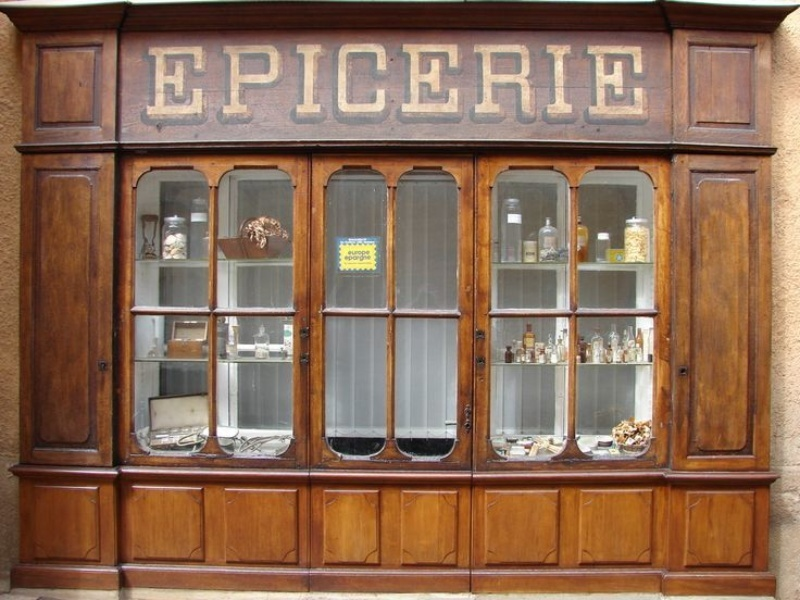text: (145, 43, 160, 126), (161, 43, 176, 126), (177, 43, 192, 126), (193, 43, 208, 126), (209, 43, 224, 126), (225, 43, 240, 126), (241, 43, 256, 126), (257, 43, 272, 126), (273, 43, 288, 126), (289, 43, 304, 126), (305, 43, 320, 126), (321, 43, 336, 126), (337, 43, 352, 126), (353, 43, 368, 126), (369, 43, 384, 126), (385, 43, 400, 126), (401, 43, 416, 126), (417, 43, 432, 126), (433, 43, 448, 126), (449, 43, 464, 126), (465, 43, 480, 126), (481, 43, 496, 126), (497, 43, 512, 126), (513, 43, 528, 126), (529, 43, 544, 126), (545, 43, 560, 126), (561, 43, 576, 126), (577, 43, 592, 126), (593, 43, 608, 126), (609, 43, 624, 126), (625, 43, 640, 126), (641, 43, 651, 126), (353, 255, 368, 260), (353, 251, 368, 255), (344, 255, 352, 260), (348, 251, 352, 255), (369, 255, 370, 260), (369, 251, 370, 255)
